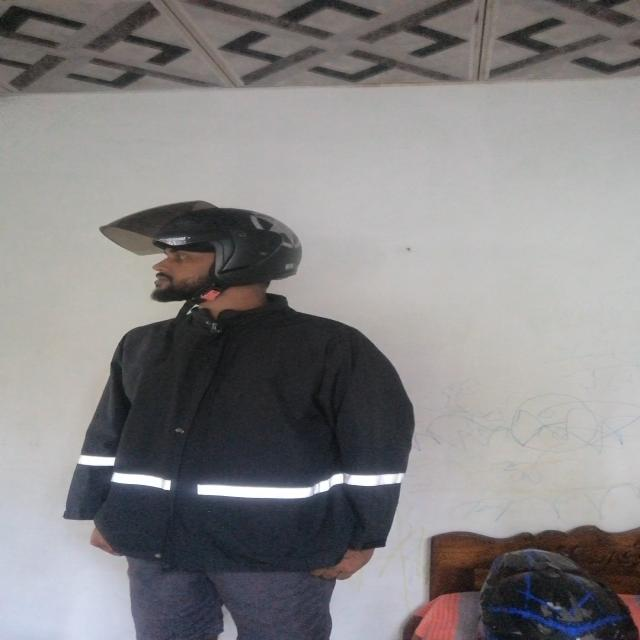Helmet_Wearer: (92, 192, 307, 328)
Jacket_Wearer: (90, 300, 418, 579)
Person: (78, 196, 410, 640)
